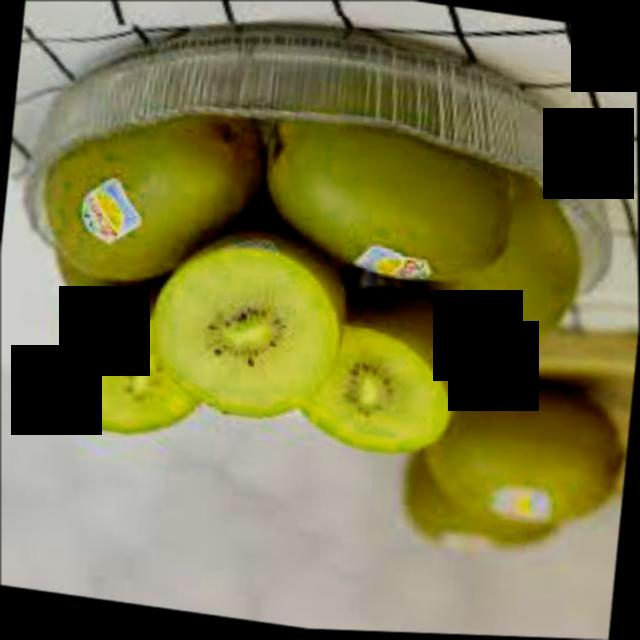kiwi: (28, 108, 265, 307), (264, 116, 513, 303), (410, 381, 628, 536), (452, 190, 602, 389)
